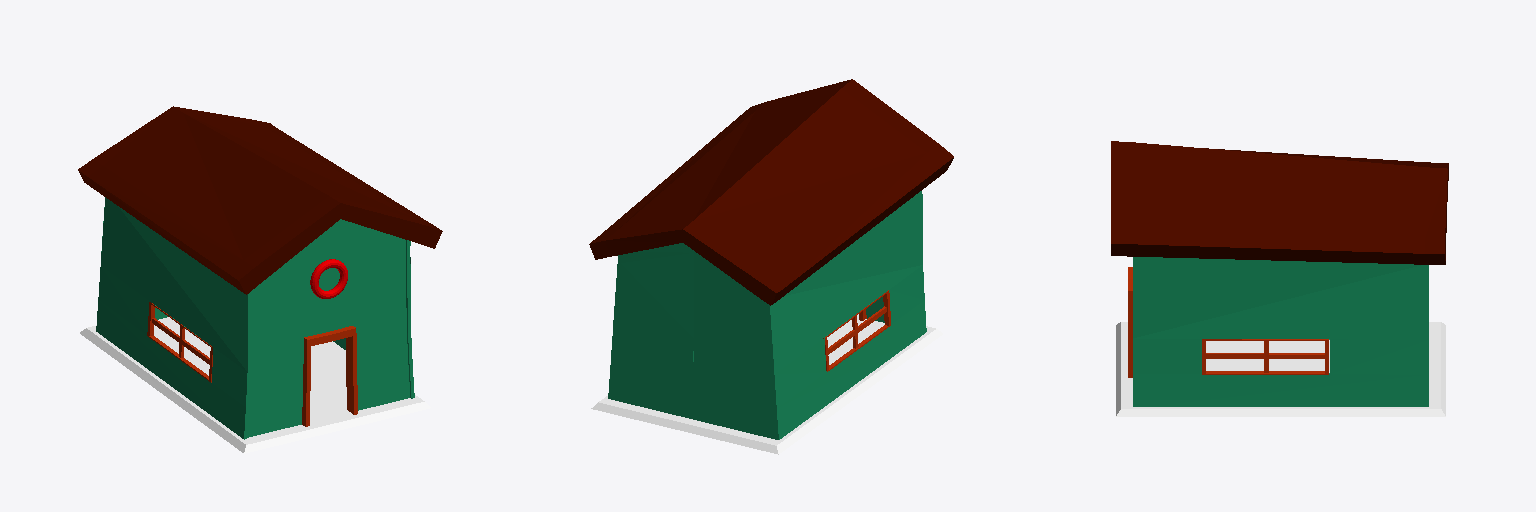
The model's file is house.obj.
3 views of the same model, side by side, from view 1: azimuth 30°, elevation 25°; view 2: azimuth 150°, elevation 25°; view 3: azimuth 270°, elevation 25° (orthographic).
Parts seen in each view (by area): view 1: House_Cube, Ceiling_Cube.001, Floor_Plane, Door_Cube.002, Torus, WindowFrame2_Cube.004, WindowBar_Cube.005; view 2: House_Cube, Ceiling_Cube.001, Floor_Plane, WindowFrame2_Cube.004, WindowBar_Cube.005; view 3: House_Cube, Ceiling_Cube.001, Floor_Plane, WindowFrame1_Cube.003, WindowBar.001_Cube.006, Door_Cube.002.
Part boxes in pixels (left/top/right/bottom): House_Cube: left=96, top=197, right=414, bottom=439; Ceiling_Cube.001: left=78, top=106, right=442, bottom=294; Floor_Plane: left=80, top=317, right=430, bottom=453; Door_Cube.002: left=302, top=326, right=357, bottom=426; Torus: left=310, top=259, right=347, bottom=298; WindowFrame2_Cube.004: left=147, top=302, right=212, bottom=382; WindowBar_Cube.005: left=152, top=318, right=209, bottom=364; House_Cube: left=608, top=191, right=926, bottom=439; Ceiling_Cube.001: left=589, top=79, right=953, bottom=305; Floor_Plane: left=591, top=314, right=942, bottom=454; WindowFrame2_Cube.004: left=823, top=290, right=890, bottom=371; WindowBar_Cube.005: left=828, top=306, right=886, bottom=354; House_Cube: left=1133, top=257, right=1428, bottom=406; Ceiling_Cube.001: left=1111, top=141, right=1448, bottom=264; Floor_Plane: left=1116, top=322, right=1445, bottom=416; WindowFrame1_Cube.003: left=1202, top=339, right=1328, bottom=374; WindowBar.001_Cube.006: left=1206, top=341, right=1324, bottom=372; Door_Cube.002: left=1128, top=267, right=1132, bottom=377.
Bounding box in the file's own units: 2.4 × 2.59 × 3.45.